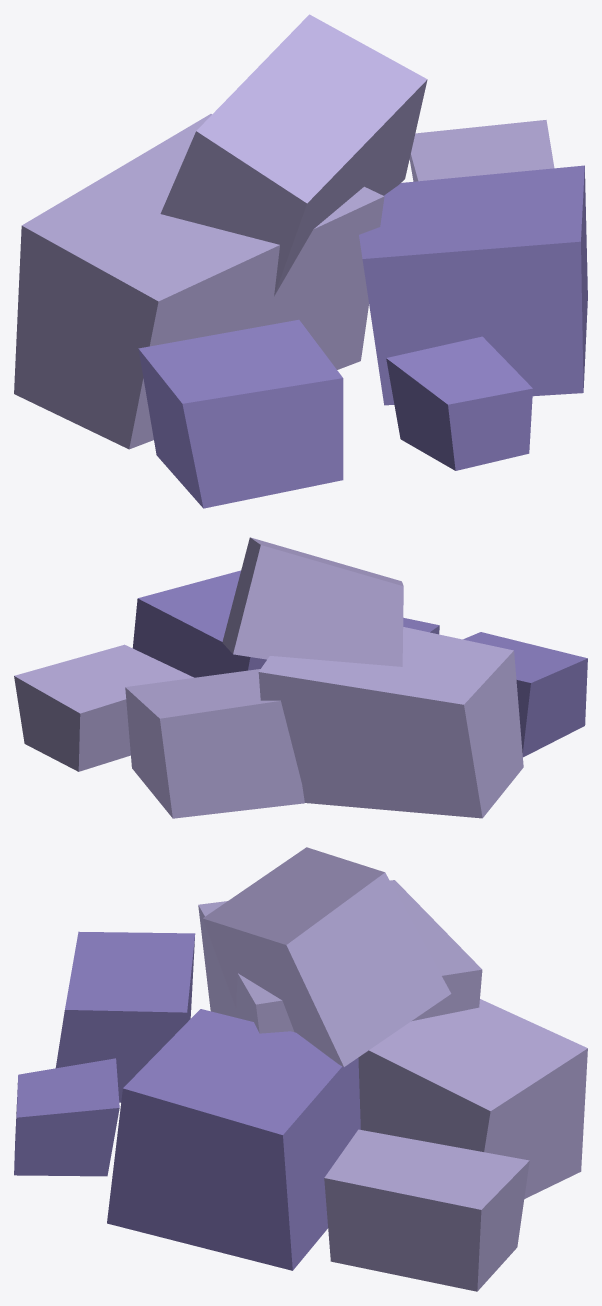
File: rubble.fbx
The picture shows the model from 3 angles, top to bottom: view 1: azimuth 30°, elevation 25°; view 2: azimuth 150°, elevation 25°; view 3: azimuth 270°, elevation 25°; orthographic projection. The views are drawn at different scales.
Parts seen in each view (by area): view 1: rubble; view 2: rubble; view 3: rubble.
Part boxes in pixels (x1,y1,x2,y2): rubble: (14, 14, 587, 508); rubble: (14, 537, 587, 818); rubble: (14, 847, 587, 1291).
Size of the model in its own units: 1.03 by 0.5083 by 0.9089.
